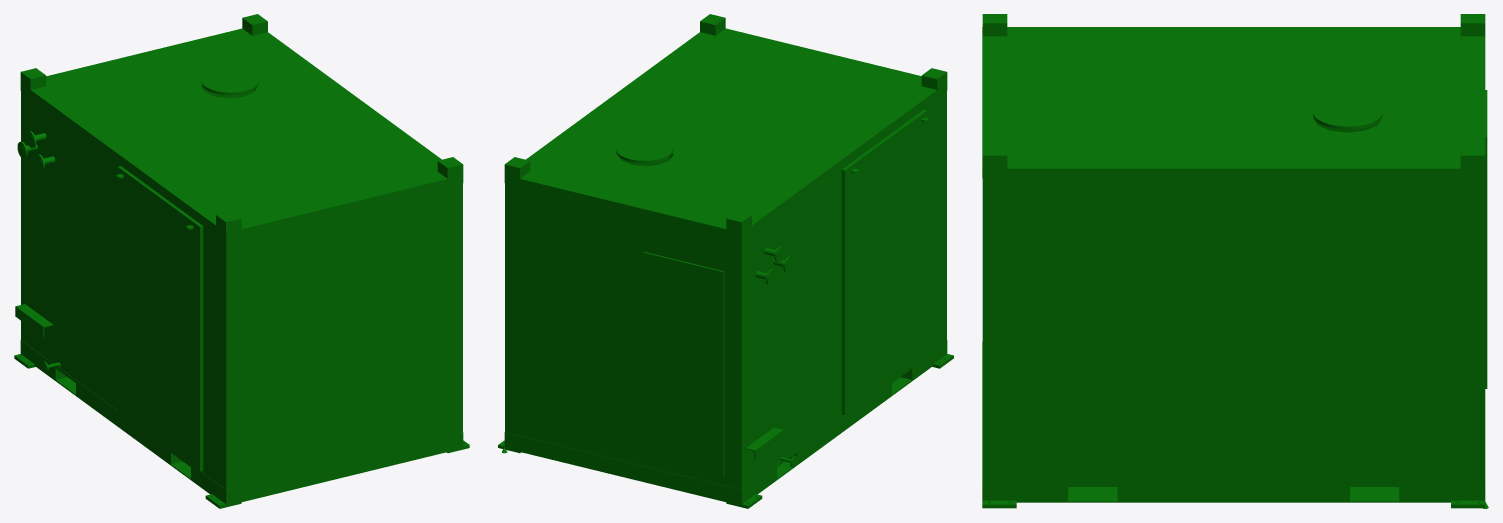
Rendered from Image-1711348098181-2280428042672_63-KC051.fbx.
3 renders of one model, left to right at view 1: azimuth 30°, elevation 25°; view 2: azimuth 150°, elevation 25°; view 3: azimuth 270°, elevation 25°, orthographic. The views are drawn at different scales.
Parts seen in each view (by area): view 1: BOX 1 of SUBEQUIPMENT /CONTAINER_NORTH_WALL, BOX 1 of SUBEQUIPMENT /CONTAINER_ROOF, BOX 1 of SUBEQUIPMENT /CONTAINER_EAST_WALL, BOX 3 of SUBEQUIPMENT /CONTAINER_EAST_WALL, BOX 12 of SUBEQUIPMENT /CONTAINER_FRAME, BOX 14 of SUBEQUIPMENT /CONTAINER_FRAME, /63-KC051_COMPR_AIR_INLET, BOX 2 of SUBEQUIPMENT /CONTAINER_EAST_WALL; view 2: BOX 1 of SUBEQUIPMENT /CONTAINER_ROOF, BOX 1 of SUBEQUIPMENT /CONTAINER_SOUTH_WALL, BOX 1 of SUBEQUIPMENT /CONTAINER_EAST_WALL, BOX 3 of SUBEQUIPMENT /CONTAINER_EAST_WALL, BOX 2 of SUBEQUIPMENT /CONTAINER_SOUTH_WALL, BOX 13 of SUBEQUIPMENT /CONTAINER_FRAME, BOX 14 of SUBEQUIPMENT /CONTAINER_FRAME, BOX 1 of SUBEQUIPMENT /CONTAINER_WEST_WALL, /63-KC051_COMPR_AIR_INLET, BOX 1 of SUBEQUIPMENT /CONTAINER_NORTH_WALL, BOX 2 of SUBEQUIPMENT /CONTAINER_EAST_WALL; view 3: BOX 1 of SUBEQUIPMENT /CONTAINER_WEST_WALL, BOX 1 of SUBEQUIPMENT /CONTAINER_ROOF, BOX 11 of SUBEQUIPMENT /CONTAINER_FRAME, BOX 1 of SUBEQUIPMENT /CONTAINER_NORTH_WALL, /63-KC051_COMPR_AIR_INLET, BOX 1 of SUBEQUIPMENT /CONTAINER_SOUTH_WALL, BOX 2 of SUBEQUIPMENT /CONTAINER_SOUTH_WALL, BOX 21 of SUBEQUIPMENT /CONTAINER_FRAME, BOX 22 of SUBEQUIPMENT /CONTAINER_FRAME, BOX 19 of SUBEQUIPMENT /CONTAINER_FRAME, BOX 20 of SUBEQUIPMENT /CONTAINER_FRAME.
Part boxes in pixels (x1,y1,x2,y2): BOX 1 of SUBEQUIPMENT /CONTAINER_NORTH_WALL: (221, 183, 462, 489); BOX 1 of SUBEQUIPMENT /CONTAINER_ROOF: (20, 28, 463, 240); BOX 1 of SUBEQUIPMENT /CONTAINER_EAST_WALL: (21, 91, 233, 489); BOX 3 of SUBEQUIPMENT /CONTAINER_EAST_WALL: (117, 166, 203, 471); BOX 12 of SUBEQUIPMENT /CONTAINER_FRAME: (217, 432, 463, 505); BOX 14 of SUBEQUIPMENT /CONTAINER_FRAME: (20, 340, 241, 505); /63-KC051_COMPR_AIR_INLET: (201, 68, 258, 95); BOX 2 of SUBEQUIPMENT /CONTAINER_EAST_WALL: (15, 304, 53, 336); BOX 1 of SUBEQUIPMENT /CONTAINER_ROOF: (504, 28, 947, 240); BOX 1 of SUBEQUIPMENT /CONTAINER_SOUTH_WALL: (505, 184, 746, 489); BOX 1 of SUBEQUIPMENT /CONTAINER_EAST_WALL: (741, 91, 946, 489); BOX 3 of SUBEQUIPMENT /CONTAINER_EAST_WALL: (841, 109, 927, 415); BOX 2 of SUBEQUIPMENT /CONTAINER_SOUTH_WALL: (643, 252, 724, 477); BOX 13 of SUBEQUIPMENT /CONTAINER_FRAME: (505, 433, 745, 505); BOX 14 of SUBEQUIPMENT /CONTAINER_FRAME: (726, 340, 946, 504); BOX 1 of SUBEQUIPMENT /CONTAINER_WEST_WALL: (505, 157, 670, 433); /63-KC051_COMPR_AIR_INLET: (616, 136, 672, 163); BOX 1 of SUBEQUIPMENT /CONTAINER_NORTH_WALL: (942, 91, 946, 342); BOX 2 of SUBEQUIPMENT /CONTAINER_EAST_WALL: (745, 428, 783, 460); BOX 1 of SUBEQUIPMENT /CONTAINER_WEST_WALL: (982, 178, 1484, 483); BOX 1 of SUBEQUIPMENT /CONTAINER_ROOF: (982, 27, 1485, 178); BOX 11 of SUBEQUIPMENT /CONTAINER_FRAME: (982, 474, 1485, 502); BOX 1 of SUBEQUIPMENT /CONTAINER_NORTH_WALL: (982, 178, 993, 483); /63-KC051_COMPR_AIR_INLET: (1313, 97, 1382, 129); BOX 1 of SUBEQUIPMENT /CONTAINER_SOUTH_WALL: (1474, 179, 1484, 482); BOX 2 of SUBEQUIPMENT /CONTAINER_SOUTH_WALL: (1485, 90, 1487, 388); BOX 21 of SUBEQUIPMENT /CONTAINER_FRAME: (982, 146, 1007, 174); BOX 22 of SUBEQUIPMENT /CONTAINER_FRAME: (1460, 146, 1485, 174); BOX 19 of SUBEQUIPMENT /CONTAINER_FRAME: (982, 14, 1007, 36); BOX 20 of SUBEQUIPMENT /CONTAINER_FRAME: (1460, 14, 1485, 36).
Size of the model in its own units: 2.65 by 3.68 by 2.83.
